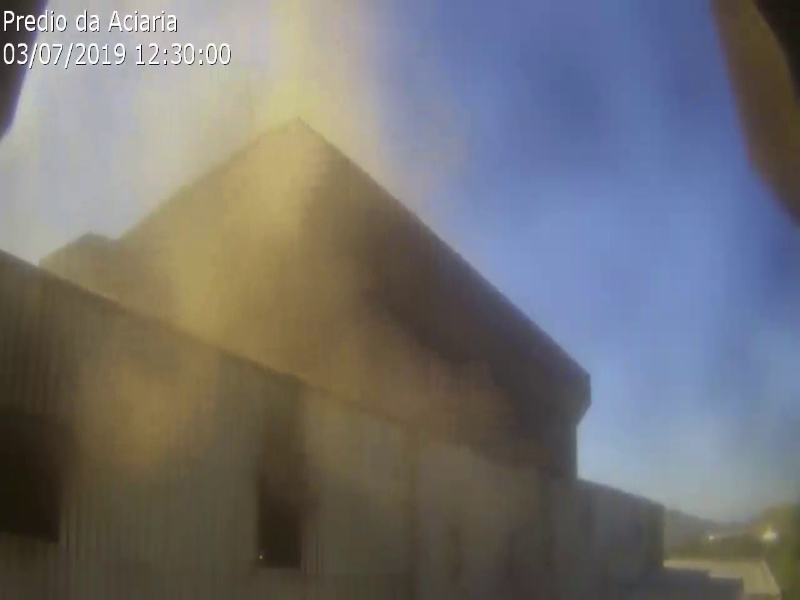Pessimo: (263, 1, 317, 125), (158, 235, 241, 290), (185, 288, 268, 343), (240, 231, 323, 286), (246, 179, 329, 234), (162, 179, 245, 234), (239, 124, 322, 179), (267, 290, 350, 345), (283, 323, 366, 378), (109, 376, 192, 431), (92, 230, 175, 285), (333, 343, 416, 398)
